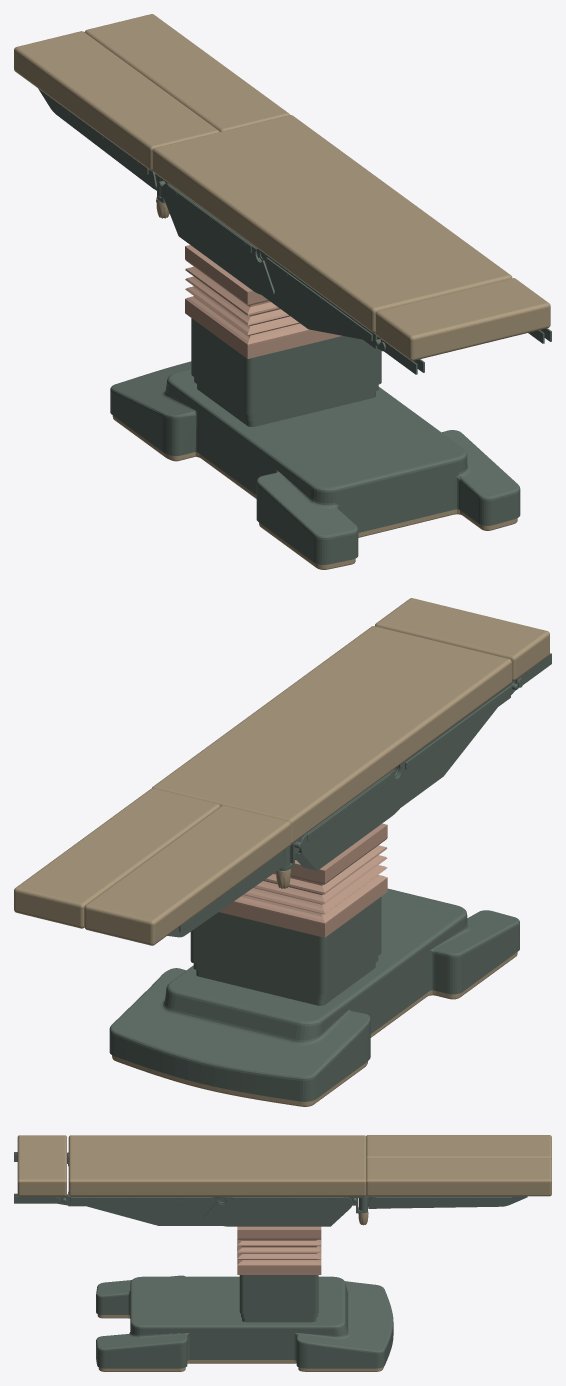
The model's file is Table1.FBX.
3 views of the same model, one above another, from view 1: azimuth 30°, elevation 25°; view 2: azimuth 150°, elevation 25°; view 3: azimuth 270°, elevation 25° (orthographic). The views are drawn at different scales.
Visible parts, largest first — view 1: Rectangle0, ChamferBo9, ChamferB11, ChamferBo1, ChamferBo8, ChamferB10, Hose001, Line001, Line002, group1, ChamferBo0, ChamferBox (+3 smaller); view 2: Rectangle0, ChamferBo9, ChamferB11, ChamferBo8, ChamferBo1, Hose001, ChamferB10, Line001, Line002, group1, ChamferBo0, ChamferBox (+4 smaller); view 3: Rectangle0, ChamferBo9, ChamferBo8, ChamferB11, Hose001, Line008, ChamferBo1, ChamferB10, Line009, group1, Line010, ChamferBo5 (+5 smaller).
Part boxes in pixels (x1=…): Rectangle0: x1=110, y1=361, x2=520, y2=564; ChamferBo9: x1=152, y1=115, x2=512, y2=332; ChamferB11: x1=14, y1=31, x2=219, y2=171; ChamferBo1: x1=191, y1=318, x2=381, y2=415; ChamferBo8: x1=84, y1=14, x2=289, y2=131; ChamferB10: x1=375, y1=278, x2=550, y2=360; Hose001: x1=185, y1=245, x2=342, y2=358; Line001: x1=162, y1=183, x2=274, y2=295; Line002: x1=258, y1=254, x2=377, y2=348; group1: x1=112, y1=415, x2=517, y2=569; ChamferBo0: x1=194, y1=377, x2=378, y2=421; ChamferBox: x1=197, y1=384, x2=375, y2=426; Rectangle0: x1=109, y1=888, x2=519, y2=1101; ChamferBo9: x1=152, y1=626, x2=511, y2=843; ChamferB11: x1=84, y1=805, x2=290, y2=945; ChamferBo8: x1=14, y1=788, x2=220, y2=928; ChamferBo1: x1=190, y1=897, x2=381, y2=994; Hose001: x1=219, y1=823, x2=387, y2=937; ChamferB10: x1=375, y1=598, x2=549, y2=680; Line001: x1=295, y1=770, x2=412, y2=870; Line002: x1=395, y1=684, x2=510, y2=807; group1: x1=112, y1=952, x2=517, y2=1106; ChamferBo0: x1=193, y1=956, x2=378, y2=999; ChamferBox: x1=196, y1=963, x2=375, y2=1005; Rectangle0: x1=96, y1=1275, x2=393, y2=1368; ChamferBo9: x1=68, y1=1135, x2=366, y2=1196; ChamferBo8: x1=366, y1=1158, x2=551, y2=1196; ChamferB11: x1=366, y1=1135, x2=551, y2=1159; Hose001: x1=237, y1=1226, x2=321, y2=1274; Line008: x1=203, y1=1197, x2=352, y2=1226; ChamferBo1: x1=239, y1=1275, x2=318, y2=1314; ChamferB10: x1=17, y1=1135, x2=66, y2=1196; Line009: x1=68, y1=1196, x2=225, y2=1225; group1: x1=97, y1=1314, x2=383, y2=1371; Line010: x1=368, y1=1196, x2=527, y2=1208; ChamferBo5: x1=70, y1=1197, x2=212, y2=1202.
Bounding box in the file's own units: 12.6 × 16.27 × 42.67.
